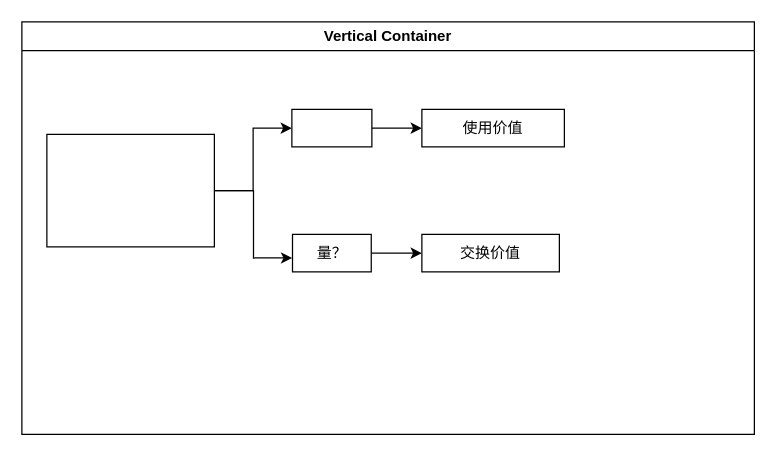
The diagram is 776 pixels wide and 456 high, and some of its shapes have lost their labels. Here are the shapes that lost their labels. From the top down, the box of each, then its label:
(291, 108, 372, 147): 质？
(46, 133, 214, 247): 属性
